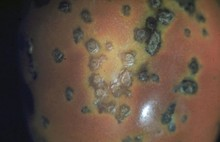damaged_tomato: (1, 1, 217, 142)
